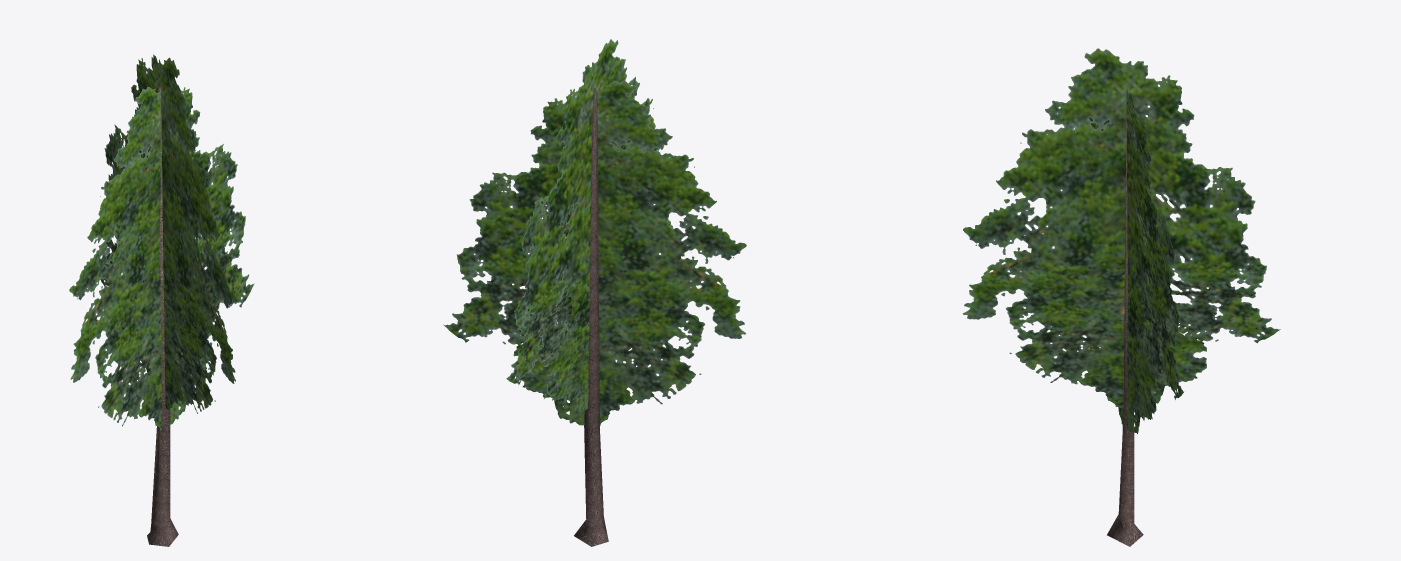
3 views of the same model, side by side, from view 1: azimuth 30°, elevation 25°; view 2: azimuth 150°, elevation 25°; view 3: azimuth 270°, elevation 25° (orthographic).
Visible parts, largest first — view 1: PSX_Tree3; view 2: PSX_Tree3; view 3: PSX_Tree3.
Part boxes in pixels (x1,y1,x2,y2): PSX_Tree3: [69, 54, 254, 546]; PSX_Tree3: [443, 39, 746, 546]; PSX_Tree3: [962, 48, 1280, 546].
Size of the model in its own units: 2760 by 3488 by 3141.
